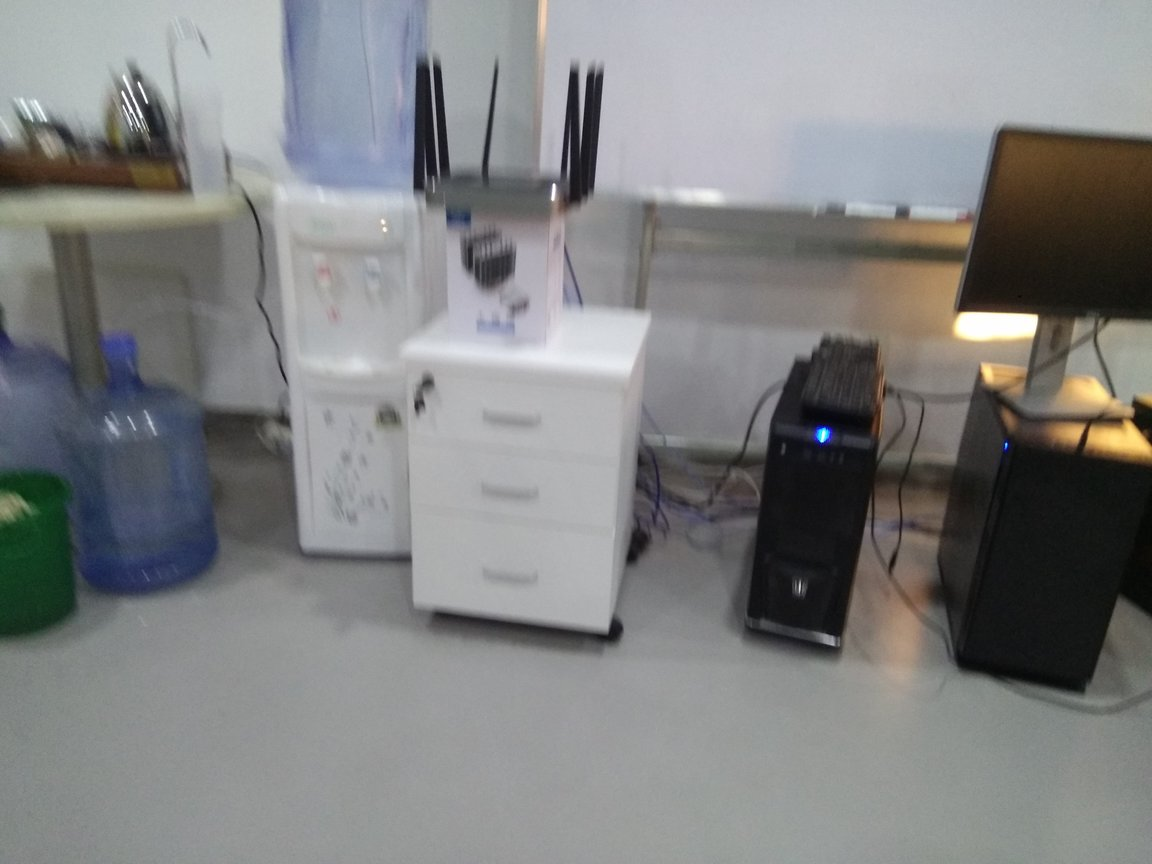computer: (929, 350, 1152, 736), (752, 351, 893, 684)
drawer chest: (399, 296, 652, 667)
monitor: (949, 121, 1152, 423)
scuttlebutt: (59, 332, 228, 600), (261, 1, 450, 191), (1, 283, 96, 559)
water dispenser: (268, 172, 453, 575)
